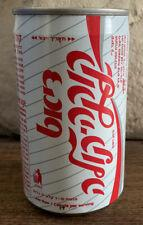metal: (14, 9, 129, 214)
